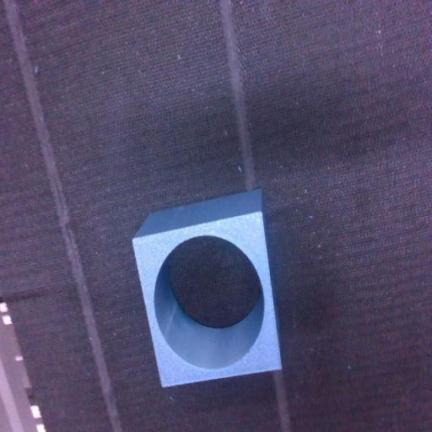square: (134, 190, 280, 386)
